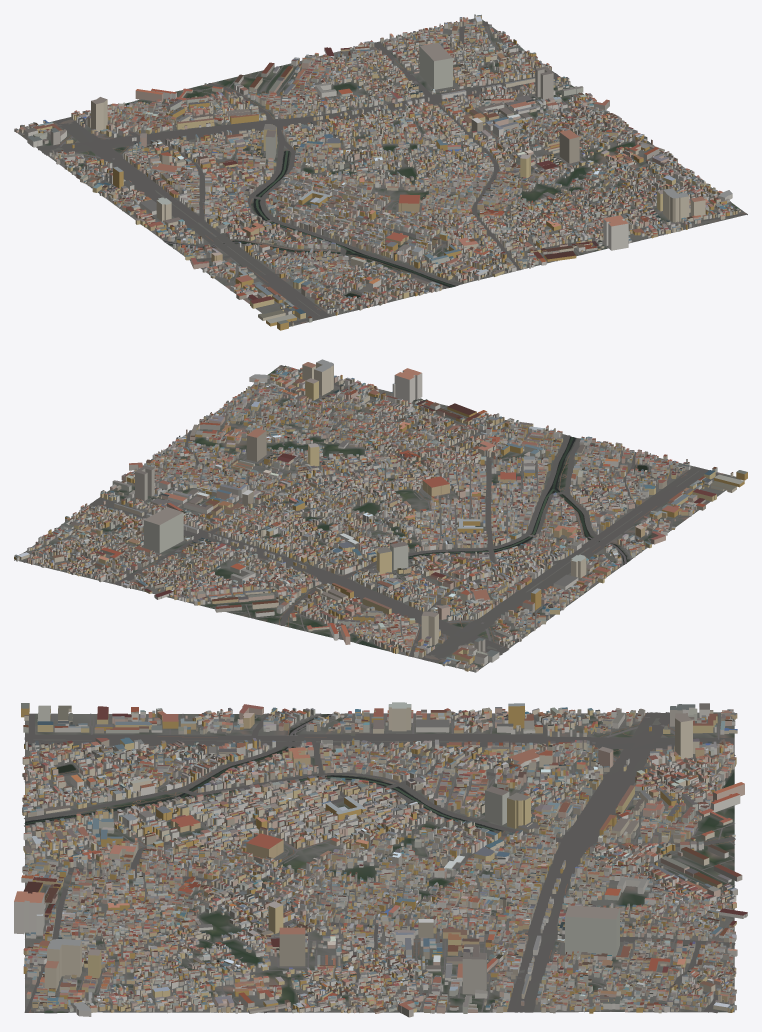
3 renders of one model, top to bottom at view 1: azimuth 30°, elevation 25°; view 2: azimuth 150°, elevation 25°; view 3: azimuth 270°, elevation 25°, orthographic. The views are drawn at different scales.
Visible parts, largest first — view 1: buildings, ground, roads, water; view 2: buildings, ground, roads, water; view 3: buildings, ground, roads, water.
Boxes of the visible parts, left/top/right/bottom form: buildings: left=14, top=14, right=740, bottom=330; ground: left=14, top=18, right=747, bottom=326; roads: left=19, top=19, right=747, bottom=325; water: left=125, top=101, right=739, bottom=298; buildings: left=14, top=359, right=747, bottom=672; ground: left=14, top=366, right=736, bottom=672; roads: left=19, top=365, right=740, bottom=671; water: left=268, top=370, right=647, bottom=649; buildings: left=14, top=702, right=747, bottom=1017; ground: left=25, top=712, right=734, bottom=1013; roads: left=24, top=712, right=735, bottom=1013; water: left=24, top=713, right=734, bottom=1012.
Bounding box in the file's own units: 1445 × 88.42 × 1450.
